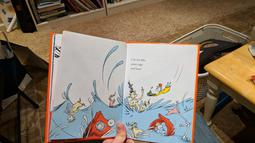text block: (124, 55, 149, 72)
